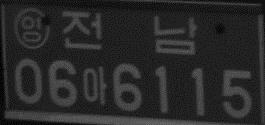0: (13, 57, 43, 104)
1: (183, 67, 214, 117), (147, 64, 177, 113)
5: (220, 68, 252, 119)
6: (111, 62, 143, 112), (46, 59, 78, 108)
아: (81, 65, 108, 106)
영: (13, 7, 49, 49)
전남_D: (61, 10, 198, 56)
